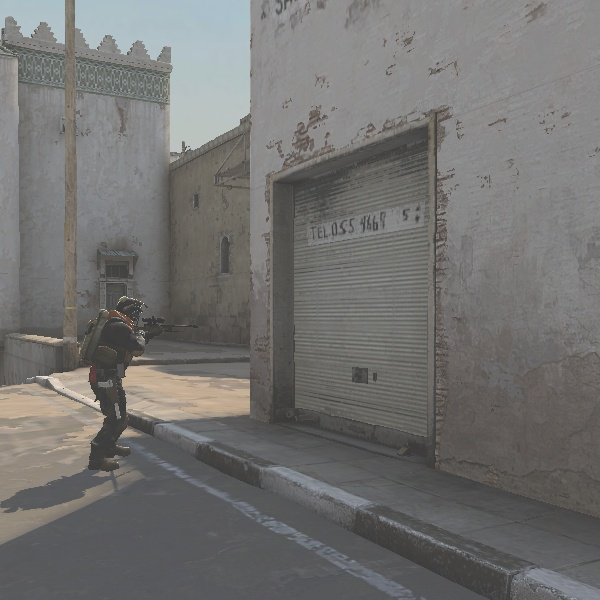t_body: (61, 290, 155, 483)
t_head: (108, 294, 143, 330)
